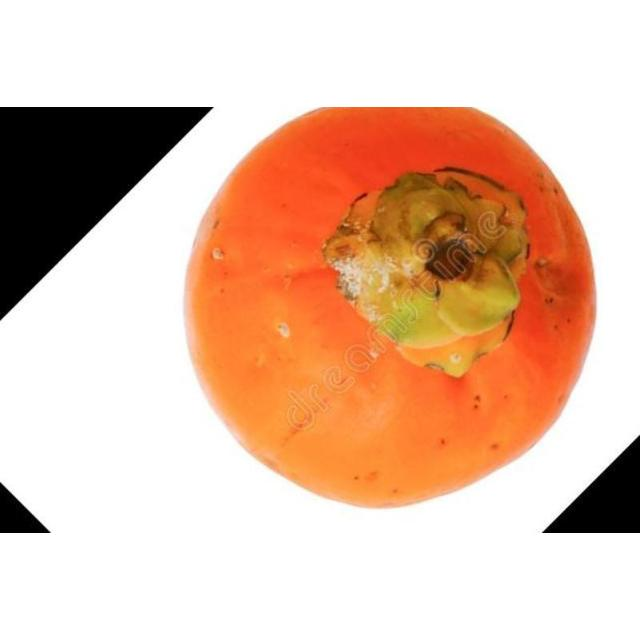good: (182, 107, 598, 512)
